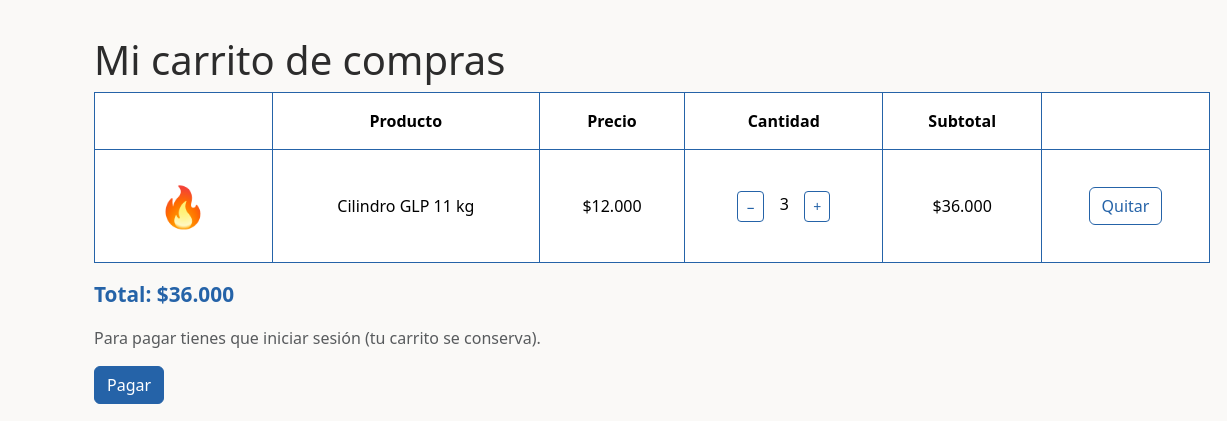
Test: Carrito: botón "Pagar" (crea el pedido en el backend) › sin sesión, "Pagar" lleva al login y no crea ningún pedido
The width and height of the screenshot is (1227, 421).
Click the button "Pagar": [129, 385] box 94,366 -> 164,404
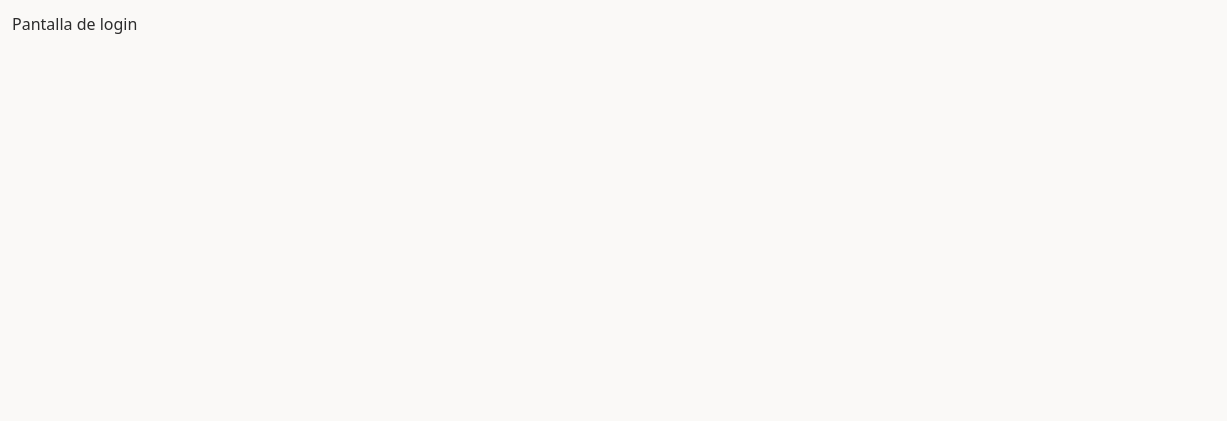
Result: the text "Pantalla de login" is shown at 12,13 -> 137,35
